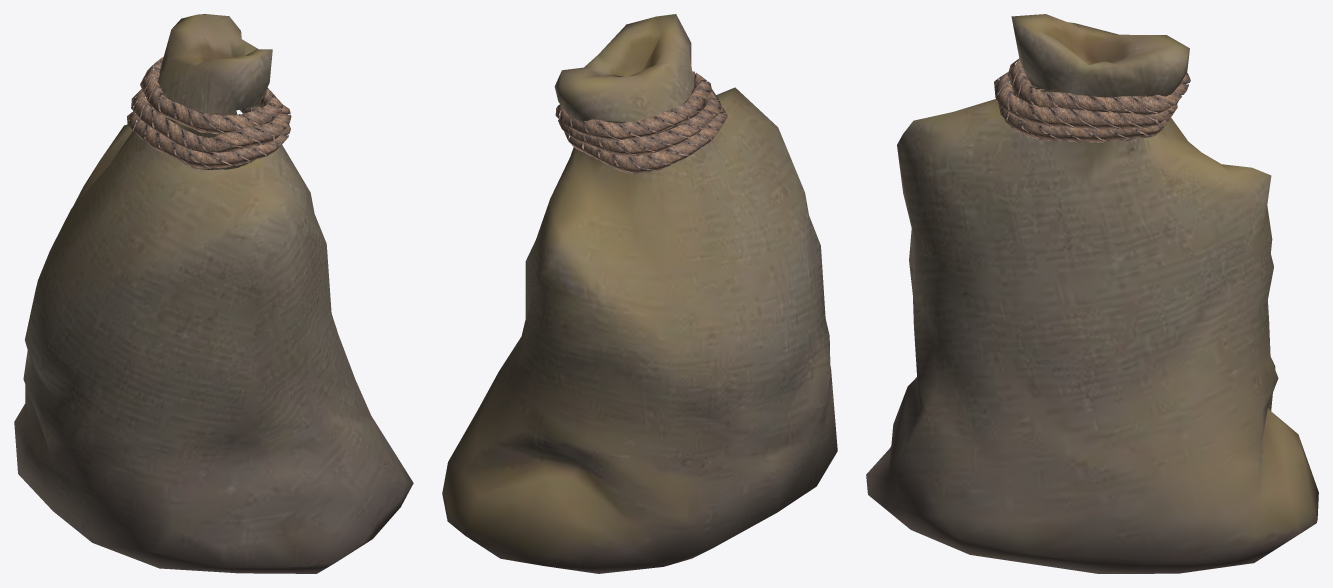
3 renders of one model, left to right at view 1: azimuth 30°, elevation 25°; view 2: azimuth 150°, elevation 25°; view 3: azimuth 270°, elevation 25°, orthographic. The views are drawn at different scales.
Parts seen in each view (by area): view 1: SM_ClosedSack_01_LOD0; view 2: SM_ClosedSack_01_LOD0; view 3: SM_ClosedSack_01_LOD0.
Part boxes in pixels (bbox=[...]): SM_ClosedSack_01_LOD0: bbox=[14, 14, 413, 573]; SM_ClosedSack_01_LOD0: bbox=[442, 14, 837, 573]; SM_ClosedSack_01_LOD0: bbox=[866, 14, 1318, 573].
Size of the model in its own units: 0.5165 by 0.7575 by 0.601.
Materials: 2 (2 with a texture image).
